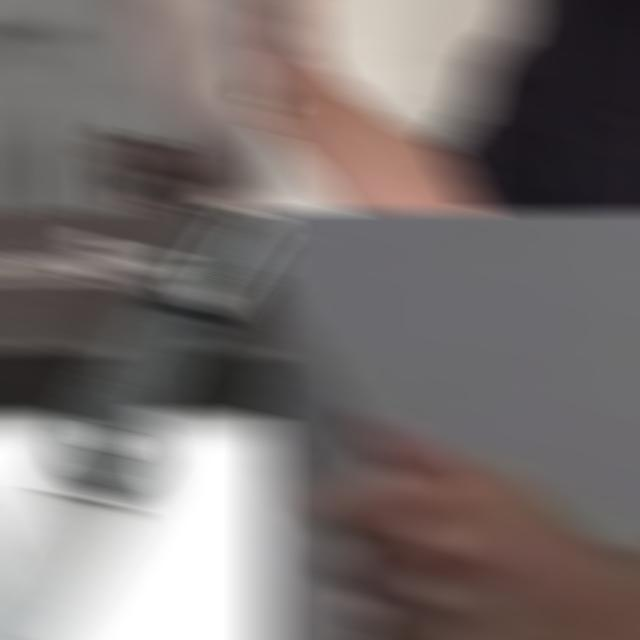Knife: (0, 209, 279, 640), (257, 209, 380, 507)
Knife_Handle: (257, 209, 604, 640), (104, 0, 279, 213)
